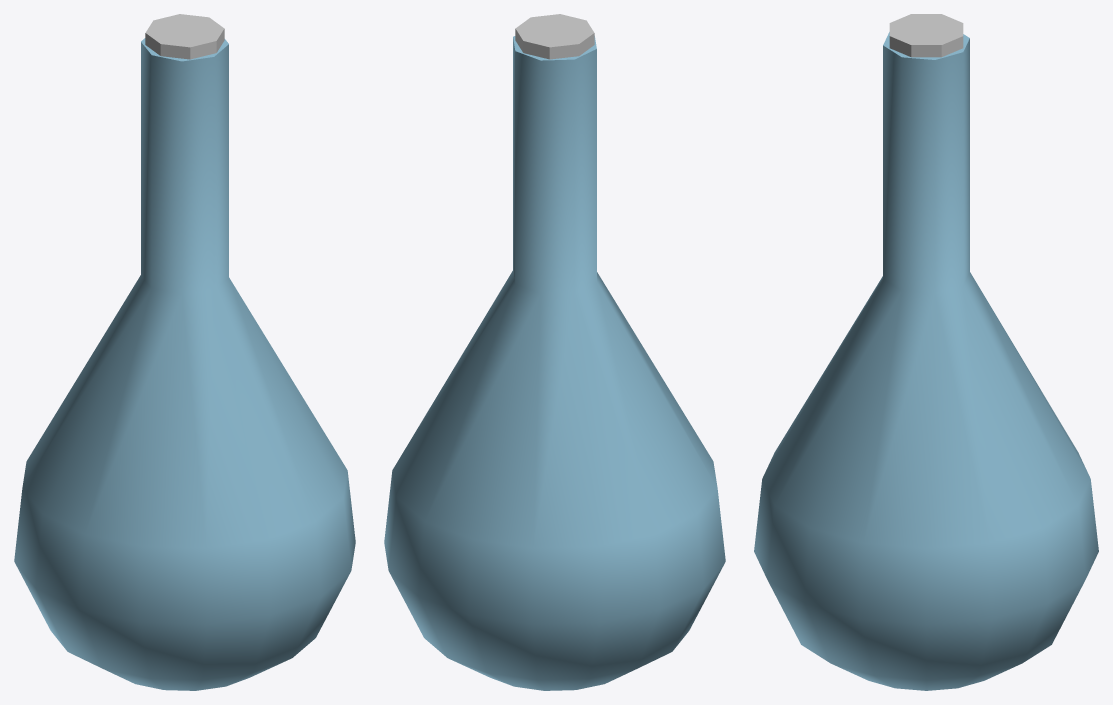
File: SM_Flask_02.fbx
3 views of the same model, side by side, from view 1: azimuth 30°, elevation 25°; view 2: azimuth 150°, elevation 25°; view 3: azimuth 270°, elevation 25° (orthographic).
Visible parts, largest first — view 1: SM_Flask_02; view 2: SM_Flask_02; view 3: SM_Flask_02.
Boxes of the visible parts, bbox=[...] form: SM_Flask_02: bbox=[14, 14, 355, 690]; SM_Flask_02: bbox=[384, 14, 725, 690]; SM_Flask_02: bbox=[754, 14, 1098, 690].
Size of the model in its own units: 9.42 by 18.9 by 9.42.
